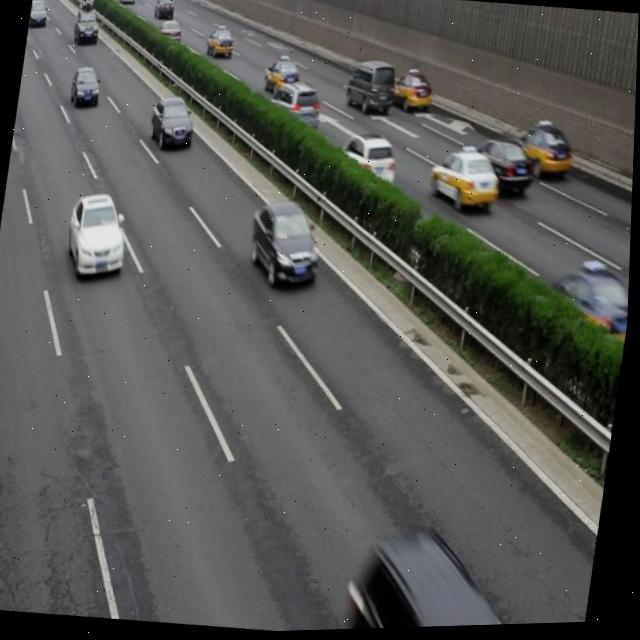car: (359, 523, 546, 631), (245, 196, 326, 293), (64, 189, 134, 283), (426, 147, 504, 218), (466, 135, 538, 201), (333, 131, 400, 194), (511, 124, 575, 184), (265, 79, 322, 135), (148, 92, 199, 153), (388, 67, 435, 117), (262, 56, 301, 97), (70, 63, 104, 110), (205, 26, 236, 60)
truck: (343, 58, 399, 121)
